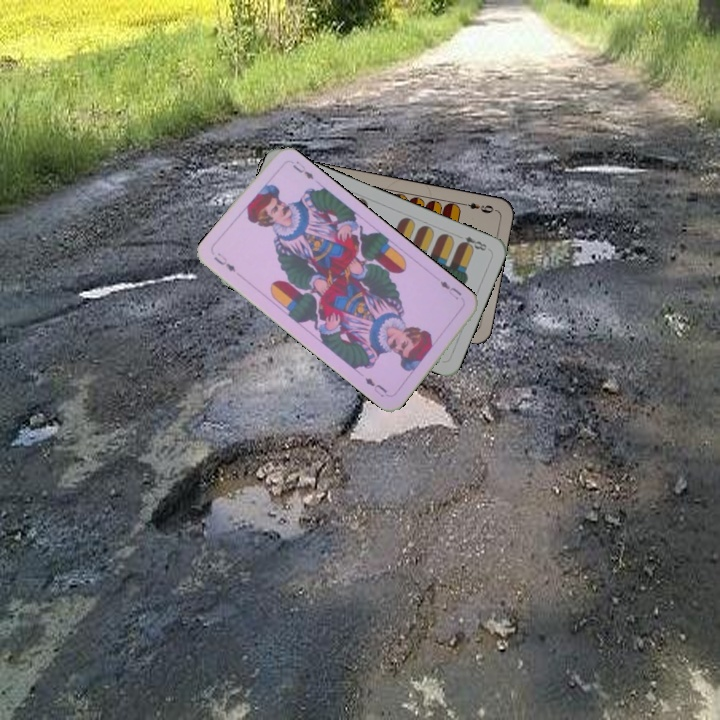E8: (455, 232, 489, 253)
E9: (458, 198, 498, 216)
EU: (436, 277, 464, 303), (210, 249, 238, 275)
